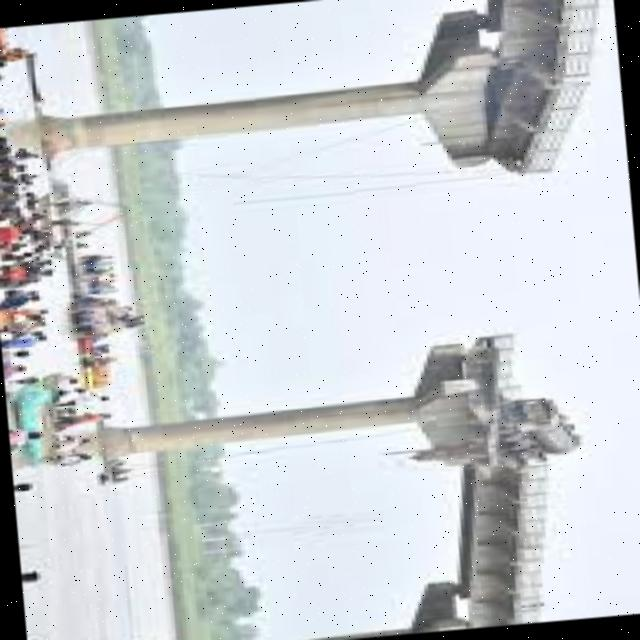bridge collapse: (217, 15, 640, 506)
